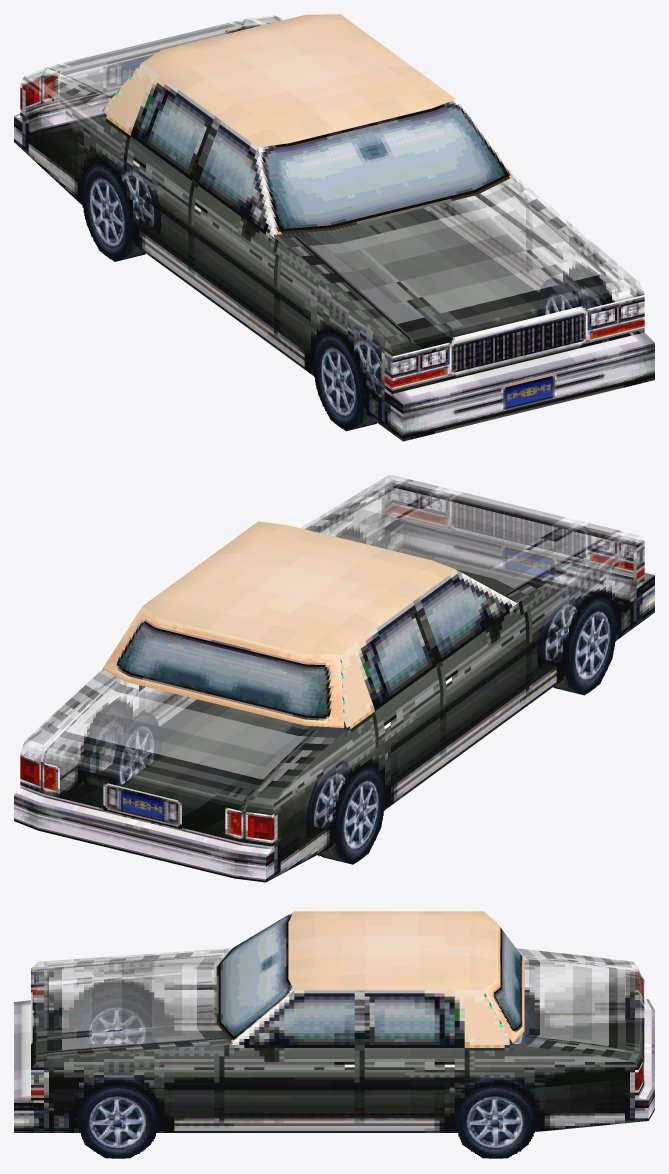
Rendered from traffic-194.glb.
The picture shows the model from 3 angles, top to bottom: view 1: azimuth 30°, elevation 25°; view 2: azimuth 150°, elevation 25°; view 3: azimuth 270°, elevation 25°; orthographic projection. The views are drawn at different scales.
Parts seen in each view (by area): view 1: body, front axle wheels, rear axle wheels; view 2: body, rear axle wheels, front axle wheels; view 3: body, front axle wheels, rear axle wheels.
Part boxes in pixels (x1,y1,x2,y2): body: (14,14,654,441); front axle wheels: (313,278,586,429); rear axle wheels: (82,156,160,260); body: (14,475,654,882); rear axle wheels: (111,712,385,863); front axle wheels: (370,542,616,694); body: (14,911,654,1158); front axle wheels: (78,996,158,1158); rear axle wheels: (455,1003,536,1158).
Bounding box in the file's own units: 20.16 × 15.18 × 54.
6 materials, 6 textured.
